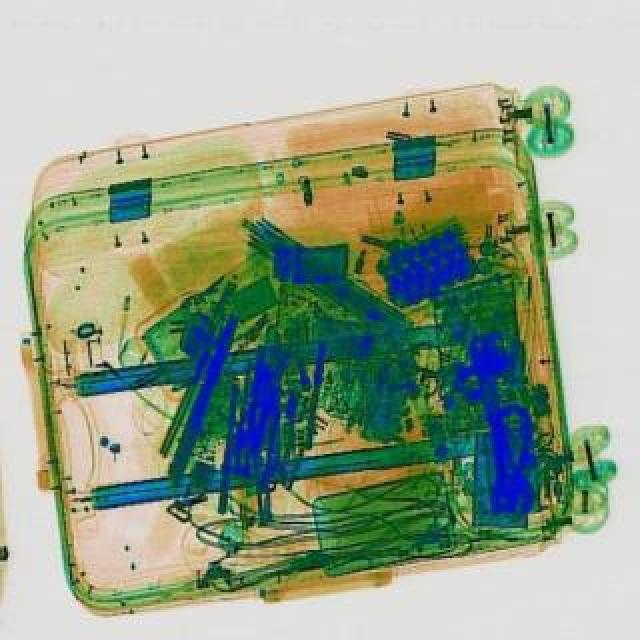scissors: (454, 332, 536, 516), (256, 344, 288, 488)
